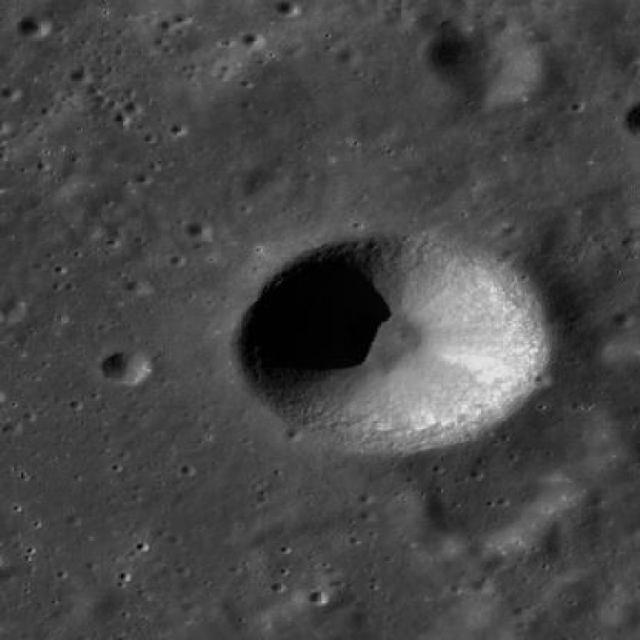crater: (237, 230, 545, 453), (424, 453, 566, 556), (429, 21, 543, 105), (518, 403, 620, 479), (0, 562, 83, 636), (100, 350, 148, 386), (237, 167, 286, 202), (416, 526, 462, 559), (16, 13, 52, 39), (439, 16, 473, 41), (334, 44, 363, 66), (185, 221, 213, 241), (544, 537, 572, 557), (493, 15, 519, 34), (126, 278, 151, 296), (487, 554, 510, 572), (274, 2, 298, 18), (242, 32, 264, 49), (0, 308, 22, 324), (0, 0, 5, 3), (1, 0, 2, 1)
